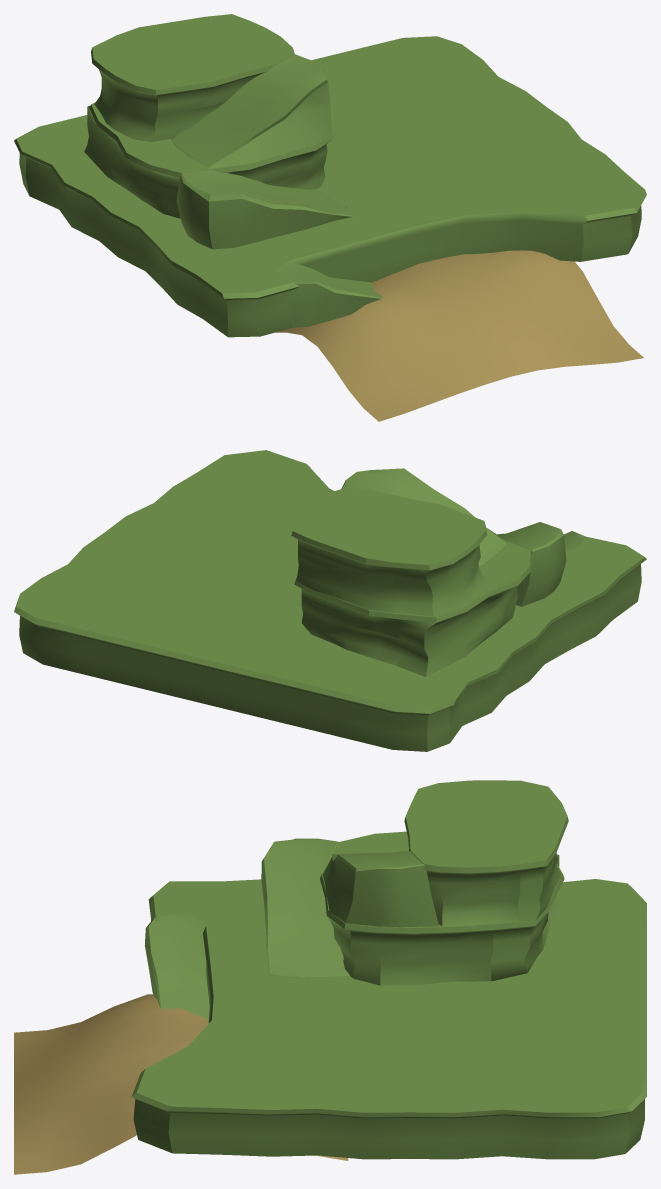
Rendered from Terrain_Scene01.fbx.
3 renders of one model, top to bottom at view 1: azimuth 30°, elevation 25°; view 2: azimuth 150°, elevation 25°; view 3: azimuth 270°, elevation 25°, orthographic. The views are drawn at different scales.
Parts seen in each view (by area): view 1: Ground, sand, pPlane3, pPlane5, pPlane2, pPlane1, Ground_slope; view 2: Ground, pPlane3, pPlane1, pPlane2, pPlane5; view 3: Ground, sand, pPlane3, pPlane1, pPlane2, pPlane5, Ground_slope.
Part boxes in pixels (<box>): Ground: <box>14,36,646,337</box>; sand: <box>275,250,643,421</box>; pPlane3: <box>91,14,294,142</box>; pPlane5: <box>171,54,331,168</box>; pPlane2: <box>176,169,353,249</box>; pPlane1: <box>84,102,333,218</box>; Ground_slope: <box>274,260,383,327</box>; Ground: <box>14,450,646,751</box>; pPlane3: <box>291,488,487,616</box>; pPlane1: <box>294,541,532,676</box>; pPlane2: <box>497,522,566,606</box>; pPlane5: <box>341,468,508,565</box>; Ground: <box>131,879,646,1159</box>; sand: <box>14,994,348,1174</box>; pPlane3: <box>404,780,568,926</box>; pPlane1: <box>320,831,564,985</box>; pPlane2: <box>261,838,349,977</box>; pPlane5: <box>322,850,438,927</box>; Ground_slope: <box>144,914,209,1019</box>.
Bounding box in the file's own units: 82.8 × 37.23 × 94.71.
